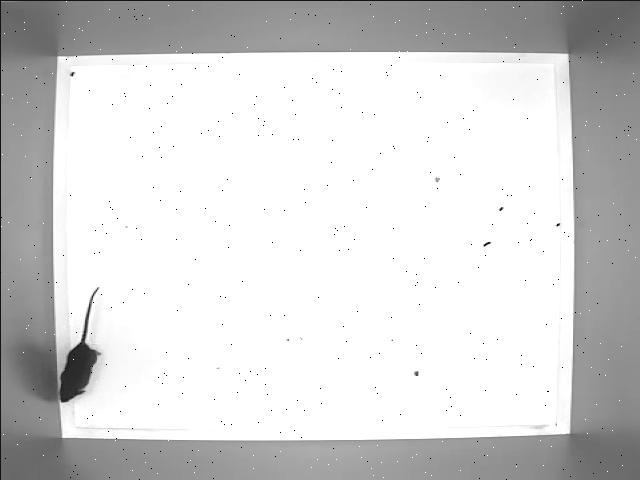Tikus: (51, 281, 108, 409)
